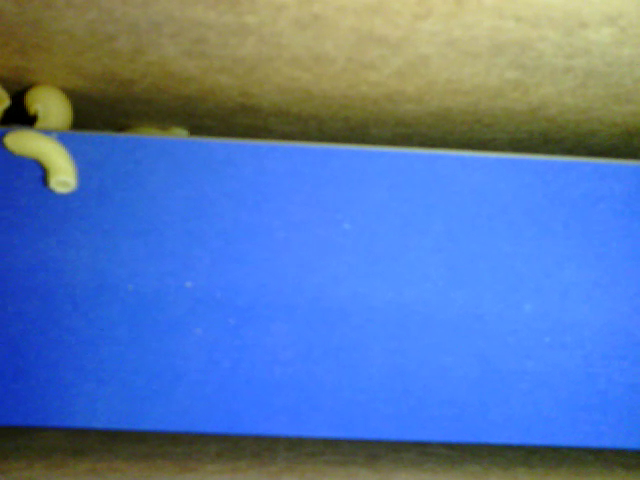elbow: (5, 132, 81, 194)
shell: (24, 85, 79, 132)
